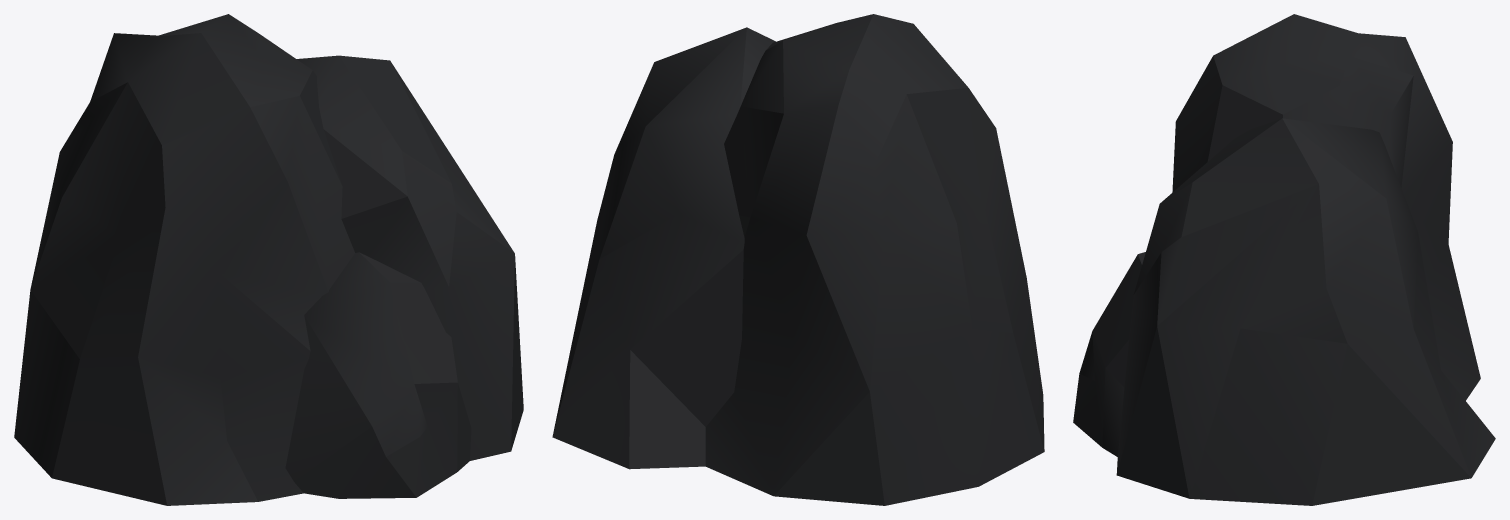
The model's file is Rocks_1.fbx.
The picture shows the model from 3 angles, left to right: view 1: azimuth 30°, elevation 25°; view 2: azimuth 150°, elevation 25°; view 3: azimuth 270°, elevation 25°; orthographic projection. The views are drawn at different scales.
Parts seen in each view (by area): view 1: Rocks_1; view 2: Rocks_1; view 3: Rocks_1.
Part boxes in pixels (x1,y1,x2,y2): Rocks_1: [14, 14, 523, 505]; Rocks_1: [552, 14, 1044, 505]; Rocks_1: [1073, 14, 1495, 505].
Size of the model in its own units: 57.39 by 49.79 by 52.09.
